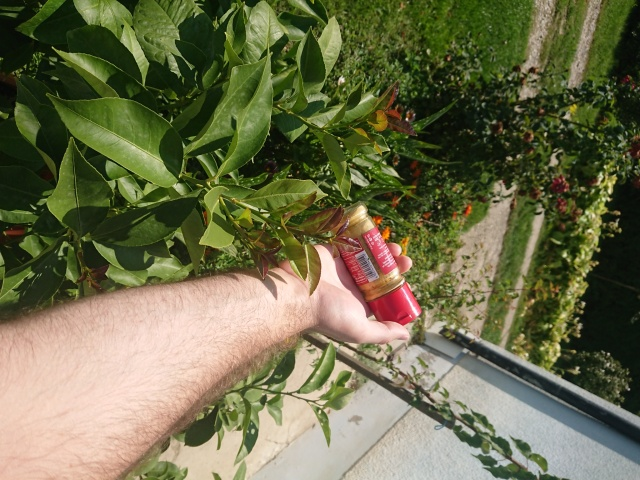Kotanyi Curry Spices Mix 70g: (322, 199, 424, 331)
